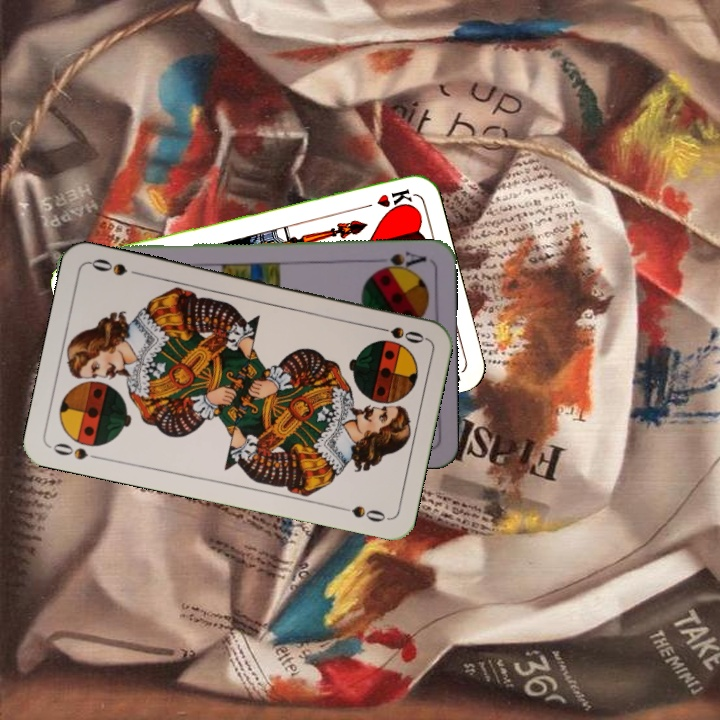HK: (355, 184, 415, 212)
SA: (371, 247, 429, 274)
SO: (369, 322, 427, 346), (49, 439, 105, 463)
